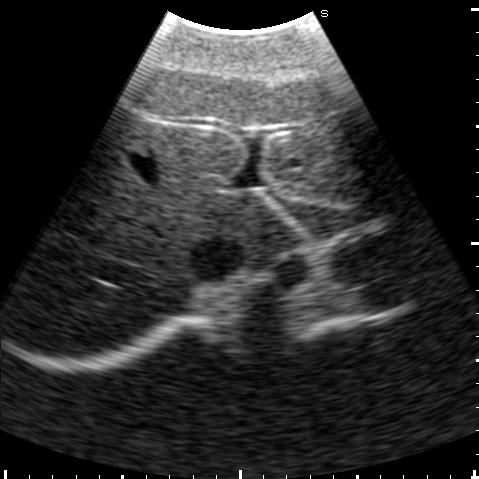IVC: (190, 235, 246, 281)
S1: (229, 195, 299, 266)
S2: (268, 181, 422, 240)
S3: (237, 66, 409, 204)
